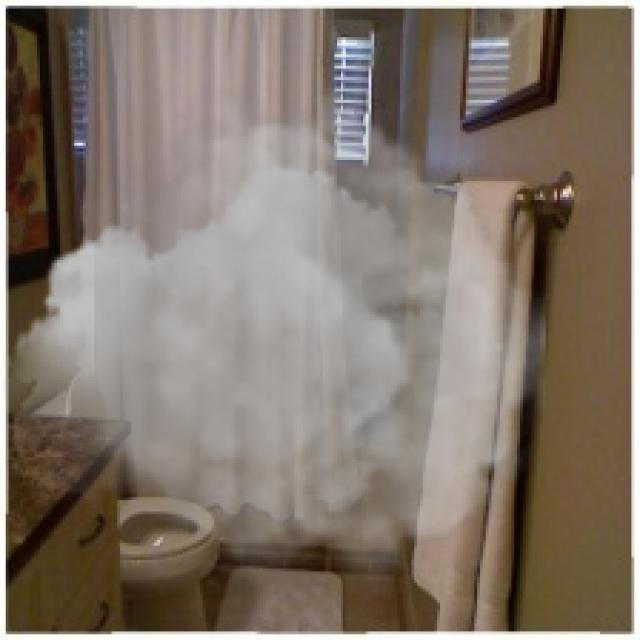Smoke: (3, 68, 546, 603)
